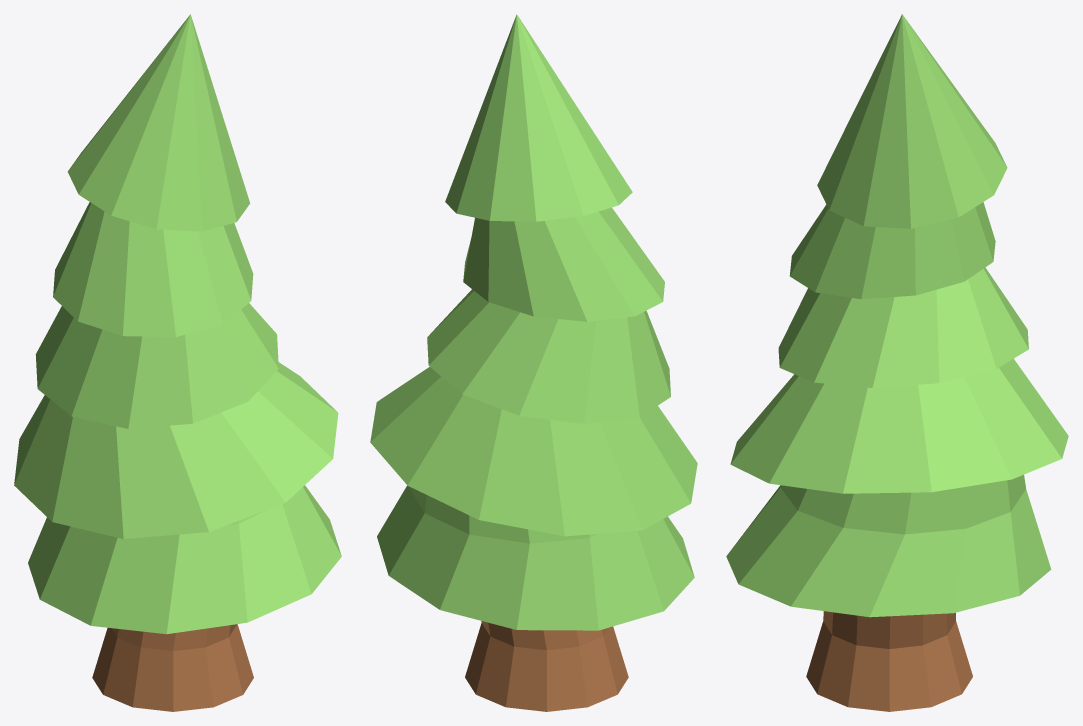
File: Tree1.fbx
The picture shows the model from 3 angles, left to right: view 1: azimuth 30°, elevation 25°; view 2: azimuth 150°, elevation 25°; view 3: azimuth 270°, elevation 25°; orthographic projection. The views are drawn at different scales.
Parts seen in each view (by area): view 1: Tree1; view 2: Tree1; view 3: Tree1.
Part boxes in pixels (box(x1,y1,x2,y2)): Tree1: box(14, 14, 341, 711); Tree1: box(370, 14, 697, 711); Tree1: box(726, 14, 1068, 711).
Size of the model in its own units: 398 by 891 by 410.
